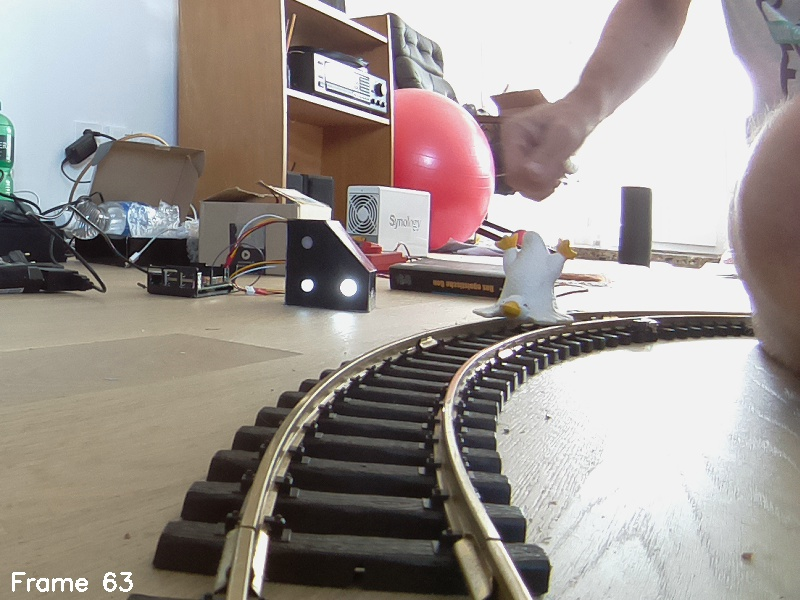Halt: (289, 220, 376, 316)
